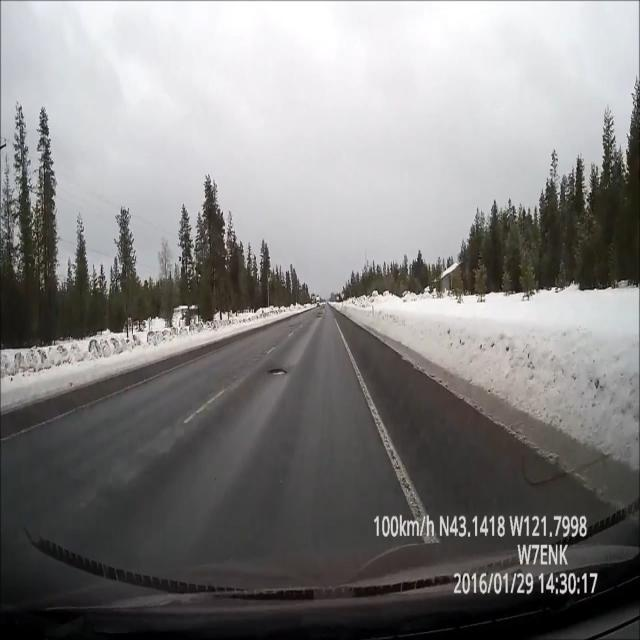Buraco: (267, 367, 289, 378)
